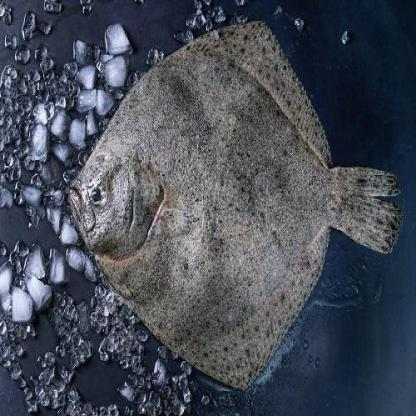flounder: (62, 21, 397, 388)
